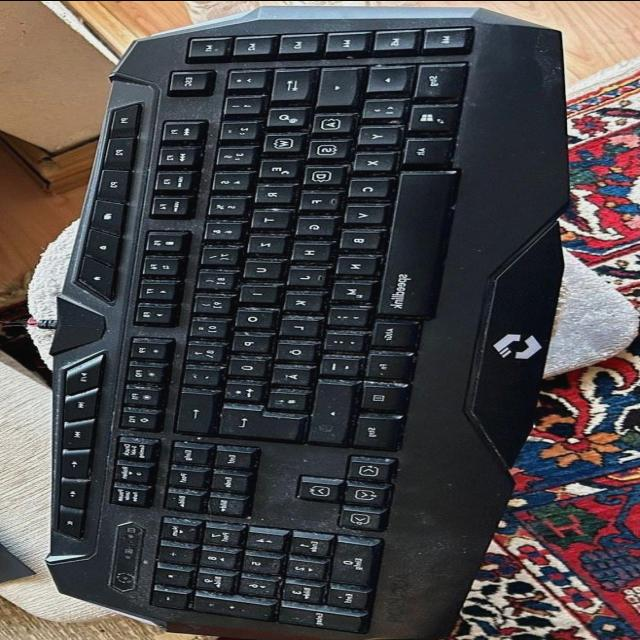0: (184, 316, 226, 336)
1: (218, 93, 259, 112)
2: (213, 118, 254, 138)
3: (211, 144, 251, 163)
4: (206, 170, 246, 189)
5: (202, 194, 243, 213)
6: (198, 219, 240, 238)
7: (196, 244, 236, 263)
8: (191, 268, 234, 288)
9: (187, 292, 229, 312)
a: (307, 111, 351, 131)
accent: (177, 364, 217, 384)
ae: (265, 364, 309, 384)
alt-left: (397, 136, 449, 163)
altgr-right: (367, 317, 415, 345)
b: (334, 227, 378, 247)
c: (342, 175, 386, 195)
caret: (222, 67, 262, 86)
comma: (321, 304, 365, 324)
d: (298, 163, 341, 183)
del: (171, 388, 211, 430)
e: (253, 156, 296, 176)
enter: (214, 402, 300, 438)
f: (293, 189, 336, 208)
g: (290, 214, 332, 234)
h: (285, 239, 327, 259)
hash: (262, 388, 305, 408)
i: (234, 282, 274, 300)
j: (281, 266, 323, 284)
k: (277, 290, 319, 310)
keyboard: (72, 12, 488, 640)
l: (274, 315, 316, 334)
less: (355, 96, 401, 116)
m: (325, 279, 369, 299)
minus: (313, 353, 356, 373)
n: (330, 253, 374, 273)
o: (230, 306, 271, 326)
oe: (271, 339, 314, 359)
p: (226, 330, 269, 350)
plus: (217, 380, 261, 399)
point: (318, 330, 361, 349)
q: (261, 104, 304, 124)
r: (249, 182, 291, 202)
s: (302, 137, 346, 156)
shift-left: (362, 64, 404, 90)
shift-lock: (313, 66, 354, 104)
shift-right: (304, 378, 350, 441)
space: (374, 169, 451, 313)
ss: (180, 340, 221, 360)
strg-left: (409, 61, 463, 96)
strg-right: (348, 412, 398, 448)
t: (245, 207, 286, 225)
tab: (266, 66, 310, 98)
u: (237, 258, 279, 277)
ue: (222, 354, 265, 374)
v: (338, 202, 382, 222)
w: (257, 131, 296, 149)
x: (346, 149, 390, 169)
y: (351, 124, 394, 143)
z: (241, 232, 282, 251)
